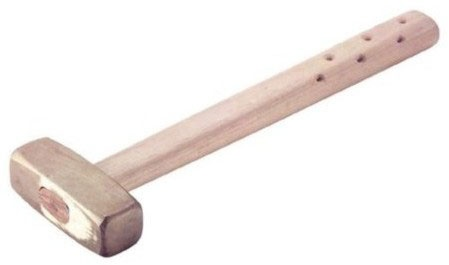hammer: (11, 8, 441, 259)
